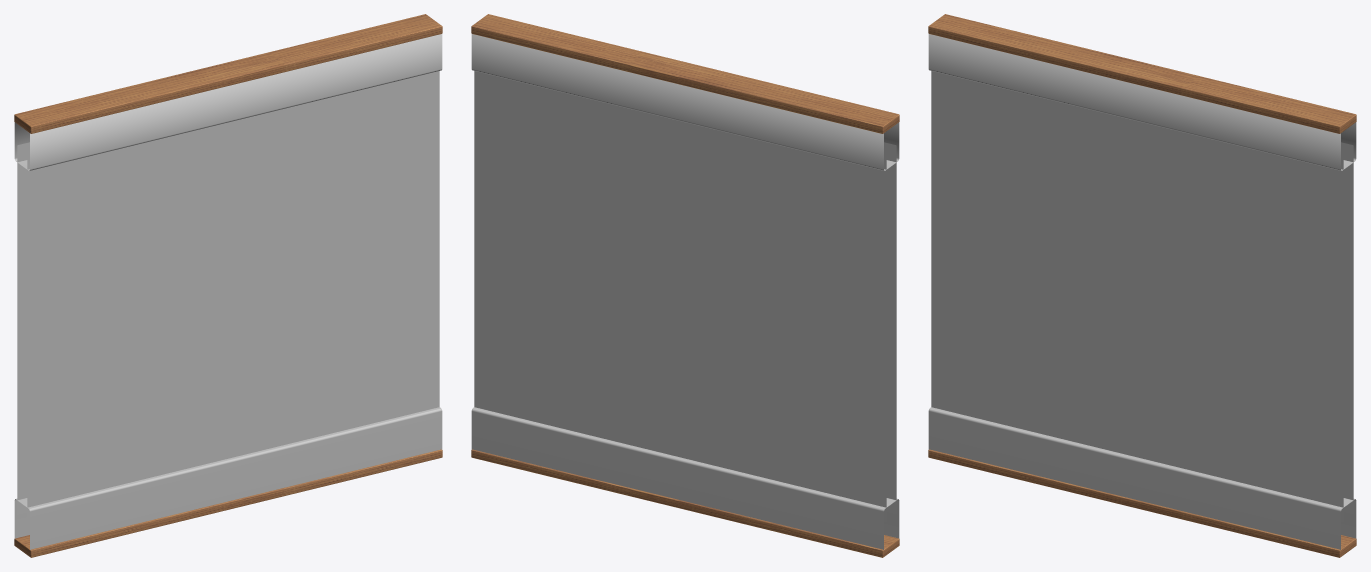
The model's file is SM_wall_standard_01.fbx.
The picture shows the model from 3 angles, left to right: view 1: azimuth 30°, elevation 25°; view 2: azimuth 150°, elevation 25°; view 3: azimuth 330°, elevation 25°; orthographic projection.
Visible parts, largest first — view 1: Wall_standard_01; view 2: Wall_standard_01; view 3: Wall_standard_01.
Part boxes in pixels (x1=…): Wall_standard_01: x1=14, y1=14, x2=442, y2=557; Wall_standard_01: x1=471, y1=14, x2=899, y2=557; Wall_standard_01: x1=928, y1=14, x2=1356, y2=557.
Size of the model in its own units: 157 by 158 by 11.32.
